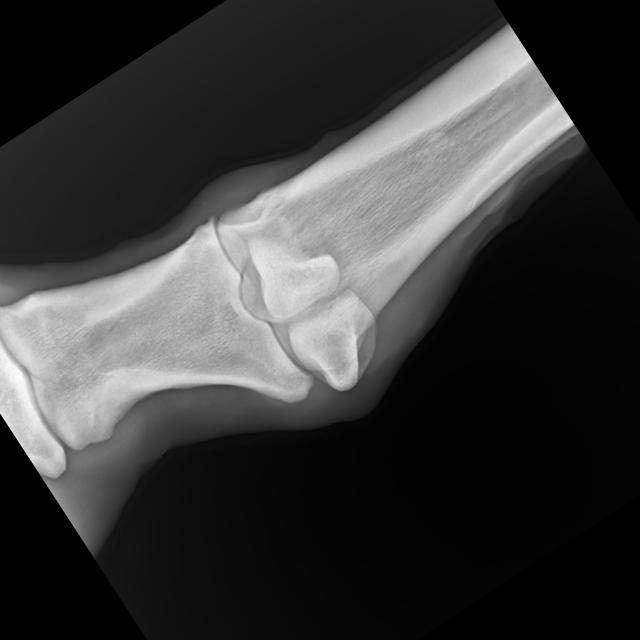joint-ht8A: (106, 100, 474, 490)
